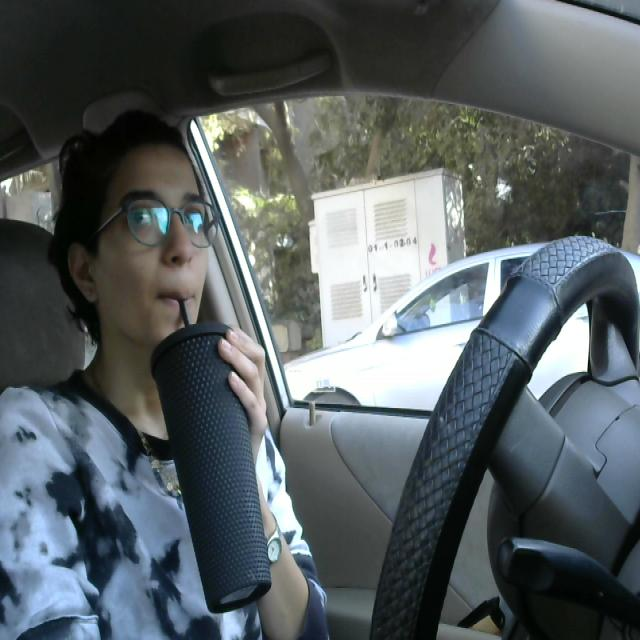drinking: (157, 289, 275, 613)
